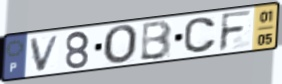8: (64, 30, 90, 71)
B: (138, 19, 174, 62)
C: (183, 16, 219, 55)
F: (217, 9, 254, 54)
O: (102, 24, 140, 66)
V: (29, 33, 63, 73)
